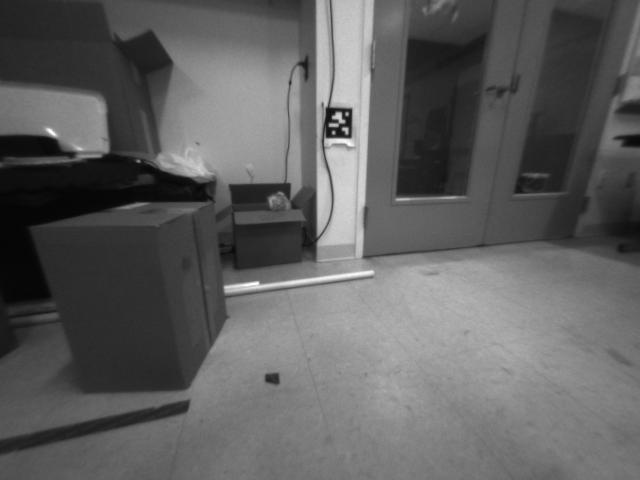door_handle: (484, 79, 509, 99)
